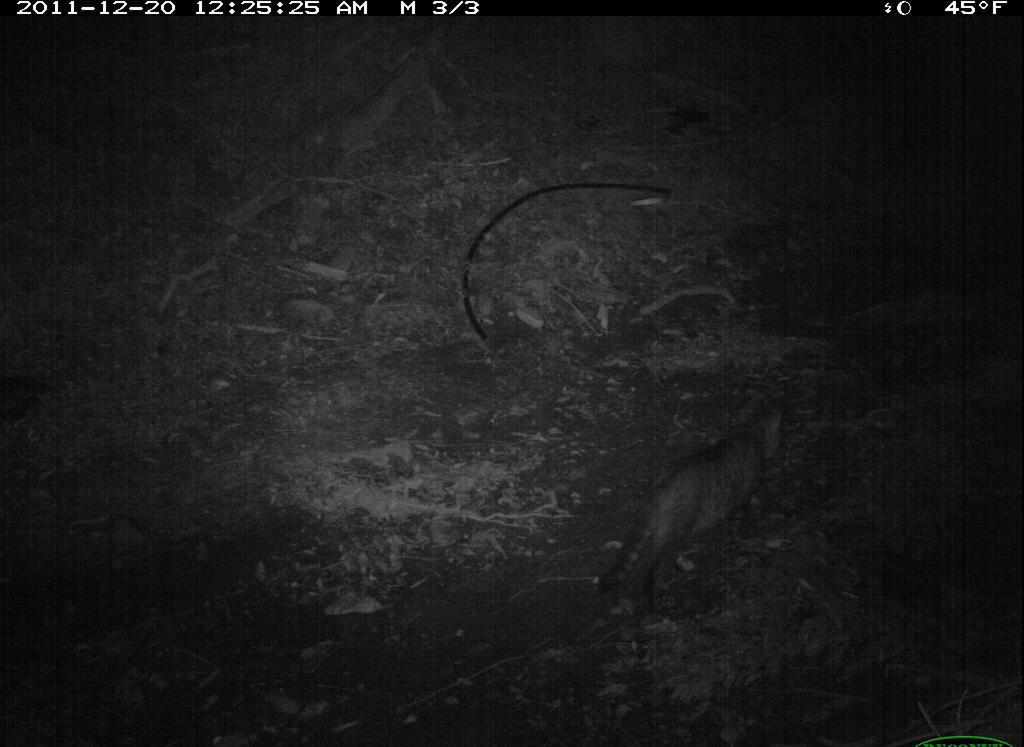cat: (597, 392, 793, 614)
